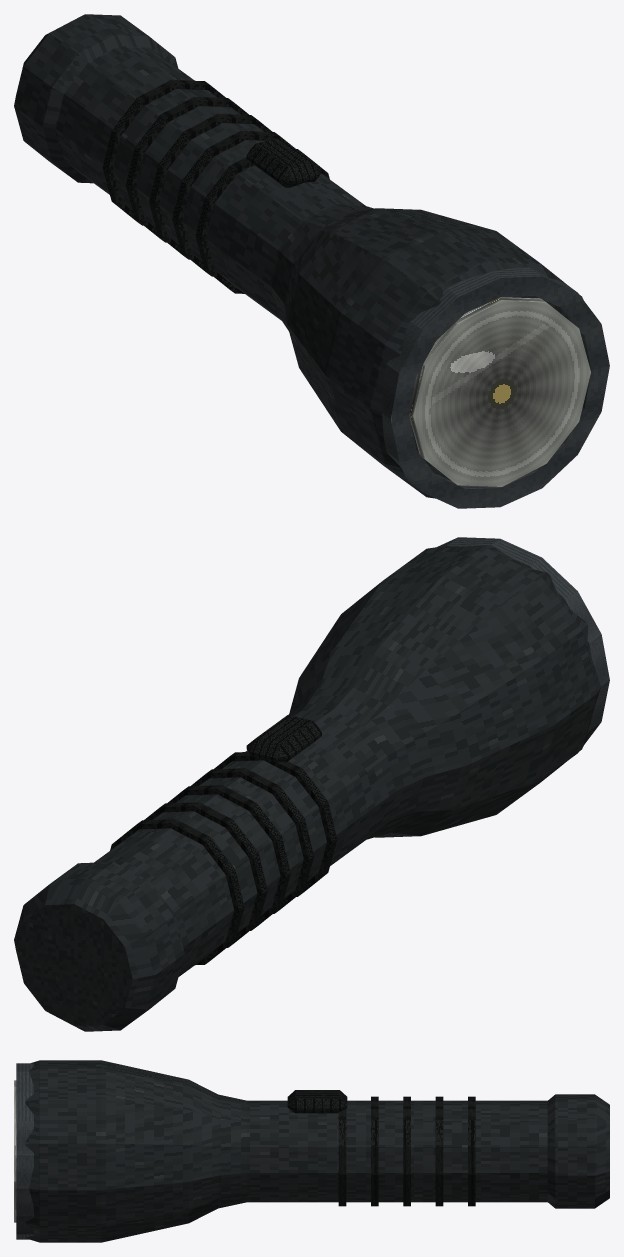
Rendered from blender_flashlight_3.glb.
3 views of the same model, one above another, from view 1: azimuth 30°, elevation 25°; view 2: azimuth 150°, elevation 25°; view 3: azimuth 270°, elevation 25° (orthographic). The views are drawn at different scales.
Visible parts, largest first — view 1: blender_flashlight_3; view 2: blender_flashlight_3; view 3: blender_flashlight_3.
Part boxes in pixels (left/top/right/bottom): blender_flashlight_3: left=14, top=14, right=609, bottom=508; blender_flashlight_3: left=14, top=537, right=609, bottom=1031; blender_flashlight_3: left=14, top=1060, right=609, bottom=1242.
Size of the model in its own units: 0.0736 by 0.0736 by 0.2395.
4 materials, 4 textured.
